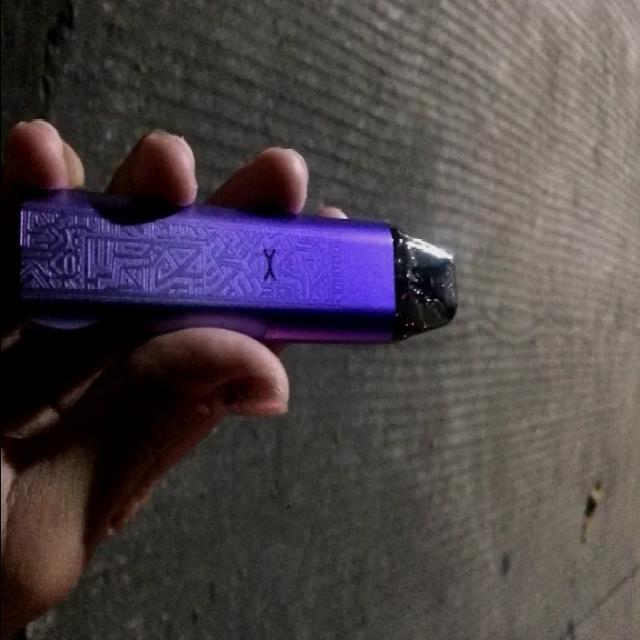Hazard: (9, 190, 453, 348)
